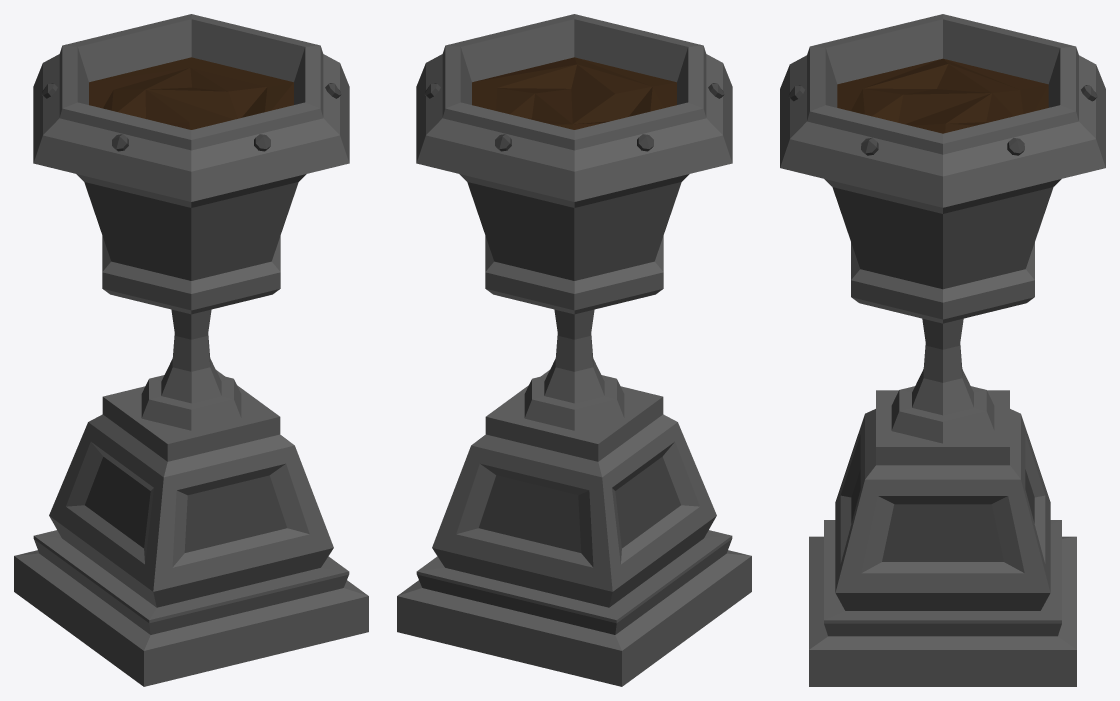
Rendered from PlantsPot02.fbx.
The picture shows the model from 3 angles, left to right: view 1: azimuth 30°, elevation 25°; view 2: azimuth 150°, elevation 25°; view 3: azimuth 270°, elevation 25°; orthographic projection. The views are drawn at different scales.
Parts seen in each view (by area): view 1: PlantsPot02; view 2: PlantsPot02; view 3: PlantsPot02.
Boxes of the visible parts, left/top/right/bottom form: PlantsPot02: left=14, top=14, right=368, bottom=686; PlantsPot02: left=397, top=14, right=751, bottom=686; PlantsPot02: left=780, top=14, right=1105, bottom=686.
Bounding box in the file's own units: 67.4 × 110 × 58.37.
